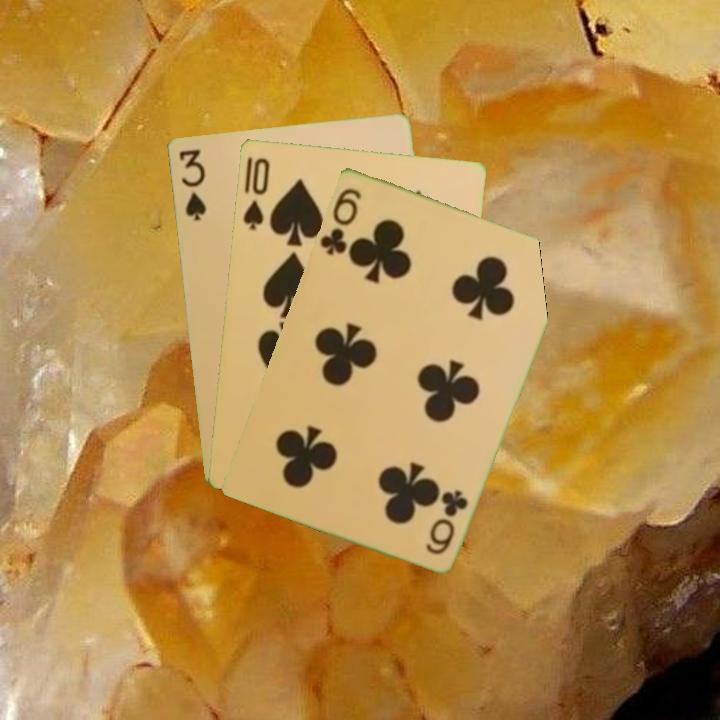10s: (239, 153, 272, 232)
3s: (175, 145, 209, 223)
6c: (421, 485, 471, 557), (316, 184, 364, 258)
